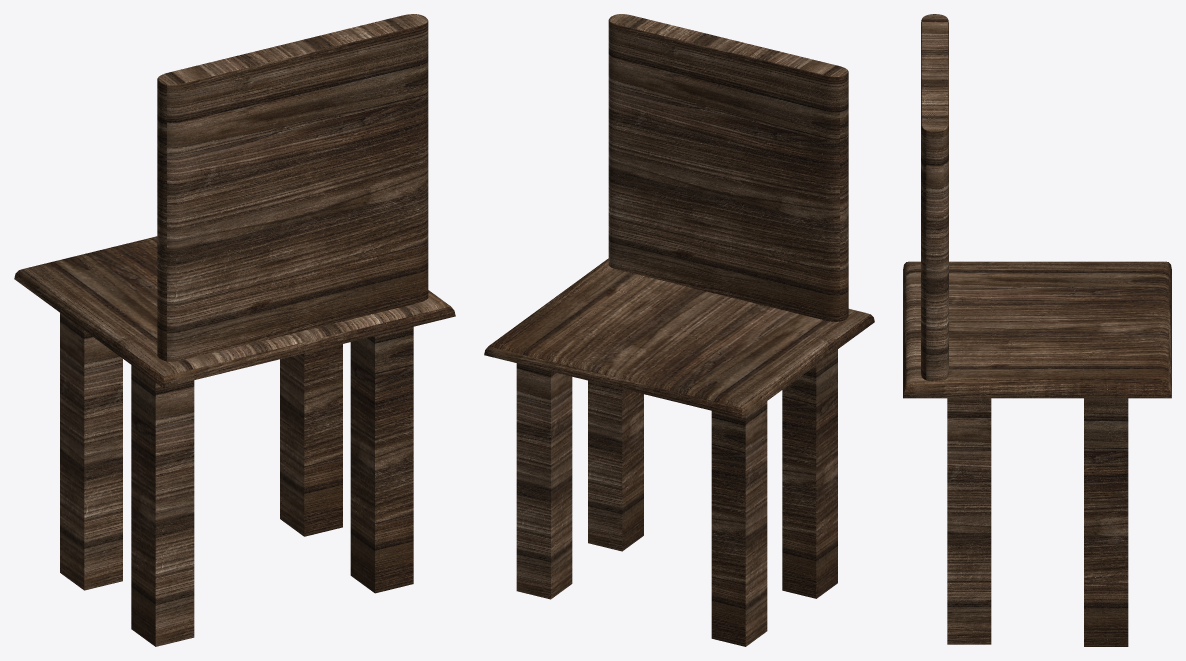
The model's file is bedroomChair.dae.
The picture shows the model from 3 angles, left to right: view 1: azimuth 30°, elevation 25°; view 2: azimuth 150°, elevation 25°; view 3: azimuth 270°, elevation 25°; orthographic projection. The views are drawn at different scales.
Parts seen in each view (by area): view 1: chair; view 2: chair; view 3: chair.
Boxes of the visible parts, x1,y1,x2,y2 form: chair: (14,14,455,646); chair: (484,14,874,646); chair: (903,14,1171,646).
Bounding box in the file's own units: 23.93 × 21.03 × 44.58.
Materials: 1 (1 with a texture image).
